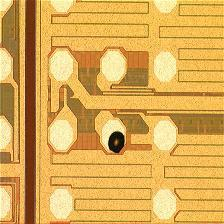PARTICLE: (105, 131, 128, 153)
